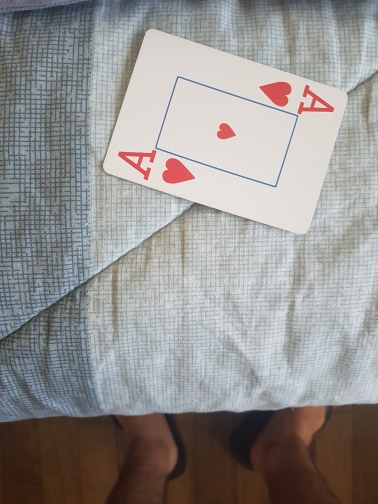ace: (103, 29, 347, 236)
